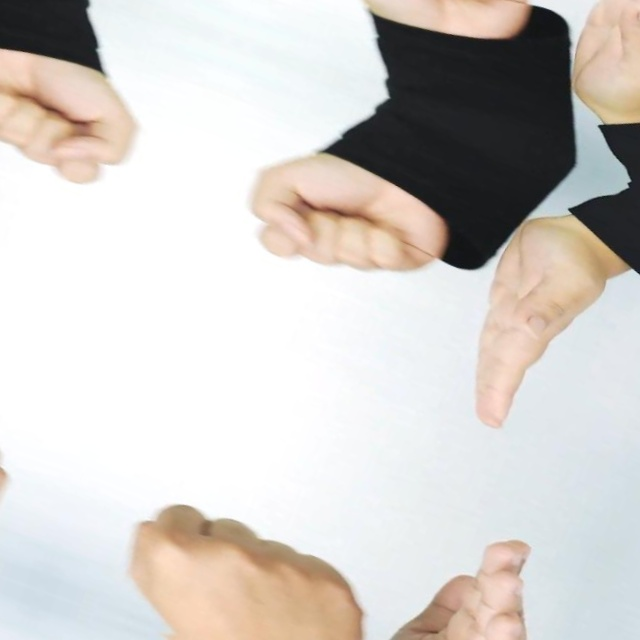Rock: (0, 20, 157, 205), (0, 352, 27, 570)
